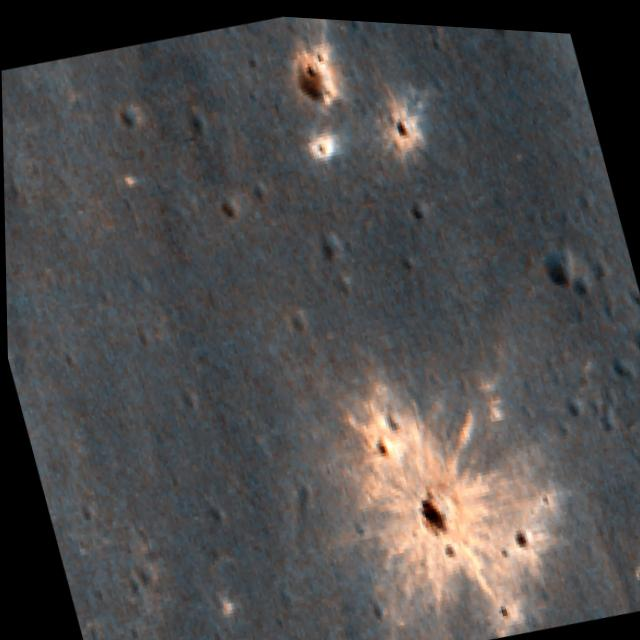Crater: (281, 37, 359, 129), (395, 469, 471, 560)
